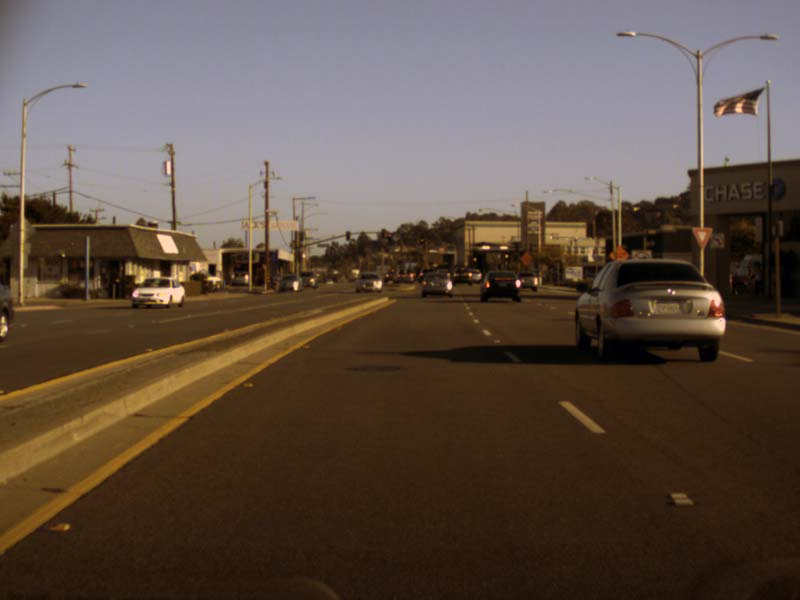Red: (387, 233, 392, 244)
Yellow: (503, 250, 510, 259), (472, 255, 477, 262)
